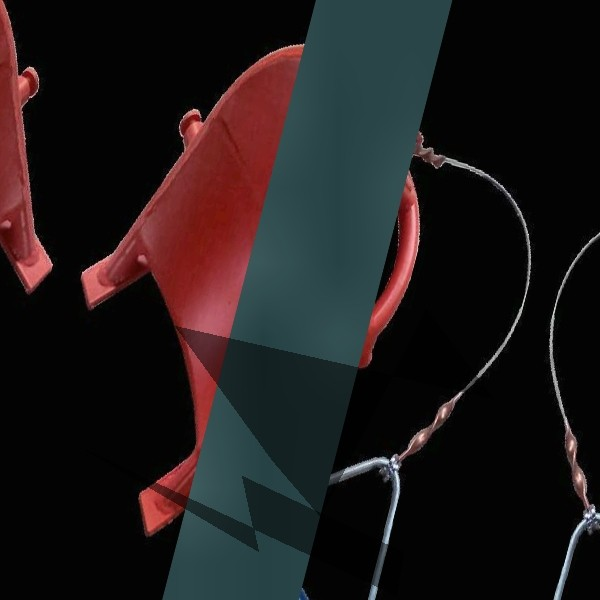chock: (17, 2, 465, 589)
